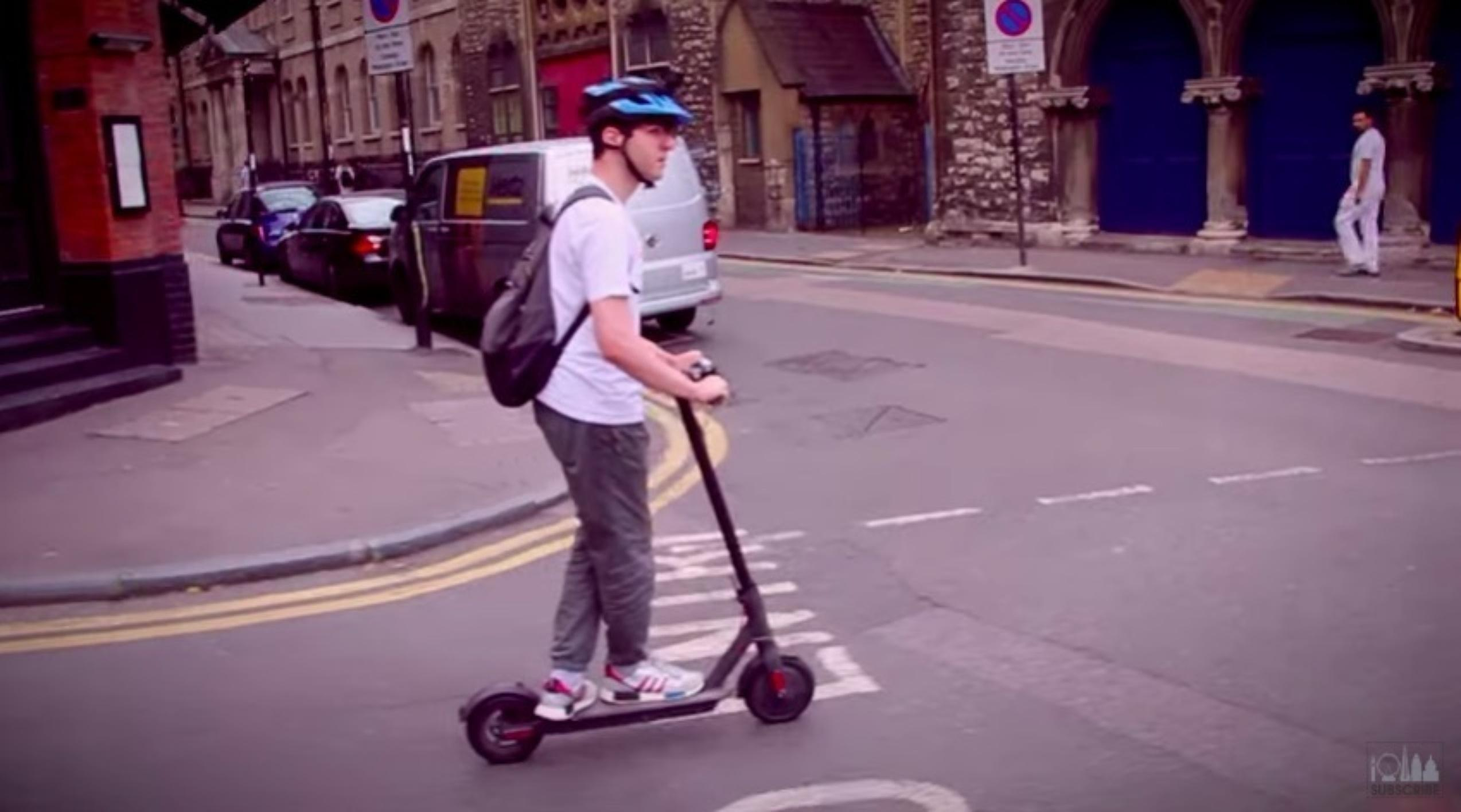helmet: (583, 71, 685, 194)
human: (537, 79, 728, 690)
kickboard: (443, 662, 813, 749)
